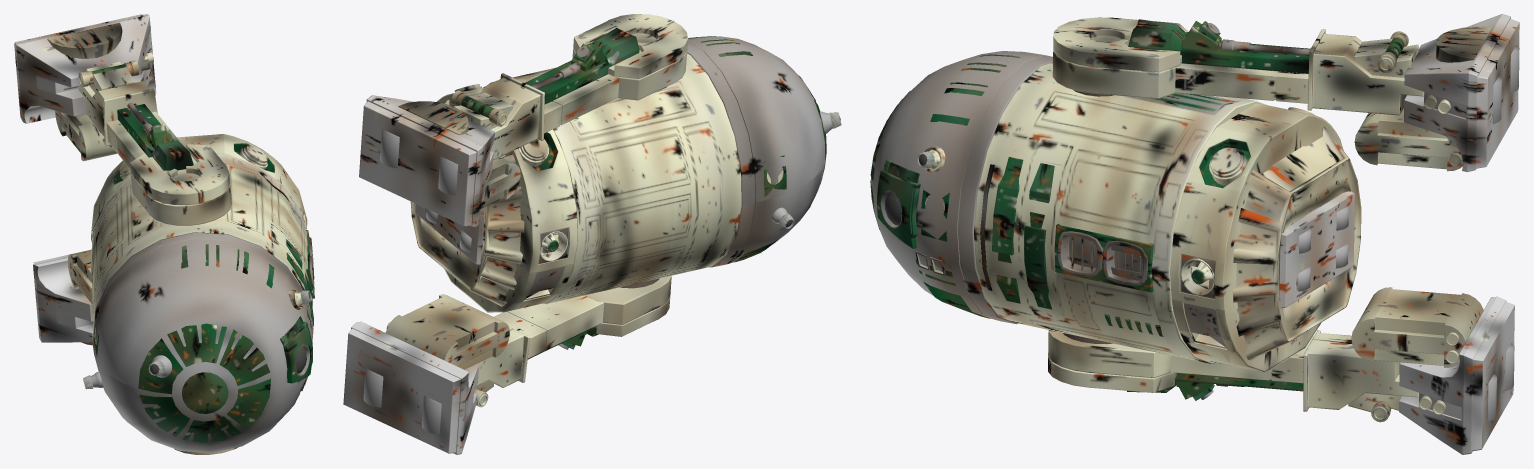
Rendered from rd_unit_dazII - Copy.fbx.
3 renders of one model, left to right at view 1: azimuth 30°, elevation 25°; view 2: azimuth 150°, elevation 25°; view 3: azimuth 270°, elevation 25°, orthographic. The views are drawn at different scales.
Visible parts, largest first — view 1: myr2Astro Droid.Shape; view 2: myr2Astro Droid.Shape; view 3: myr2Astro Droid.Shape.
Boxes of the visible parts, left/top/right/bottom form: myr2Astro Droid.Shape: left=14, top=14, right=314, bottom=454; myr2Astro Droid.Shape: left=343, top=14, right=841, bottom=454; myr2Astro Droid.Shape: left=870, top=14, right=1519, bottom=454.
Size of the model in its own units: 27 by 27.59 by 42.59.
1 material, 1 textured.
